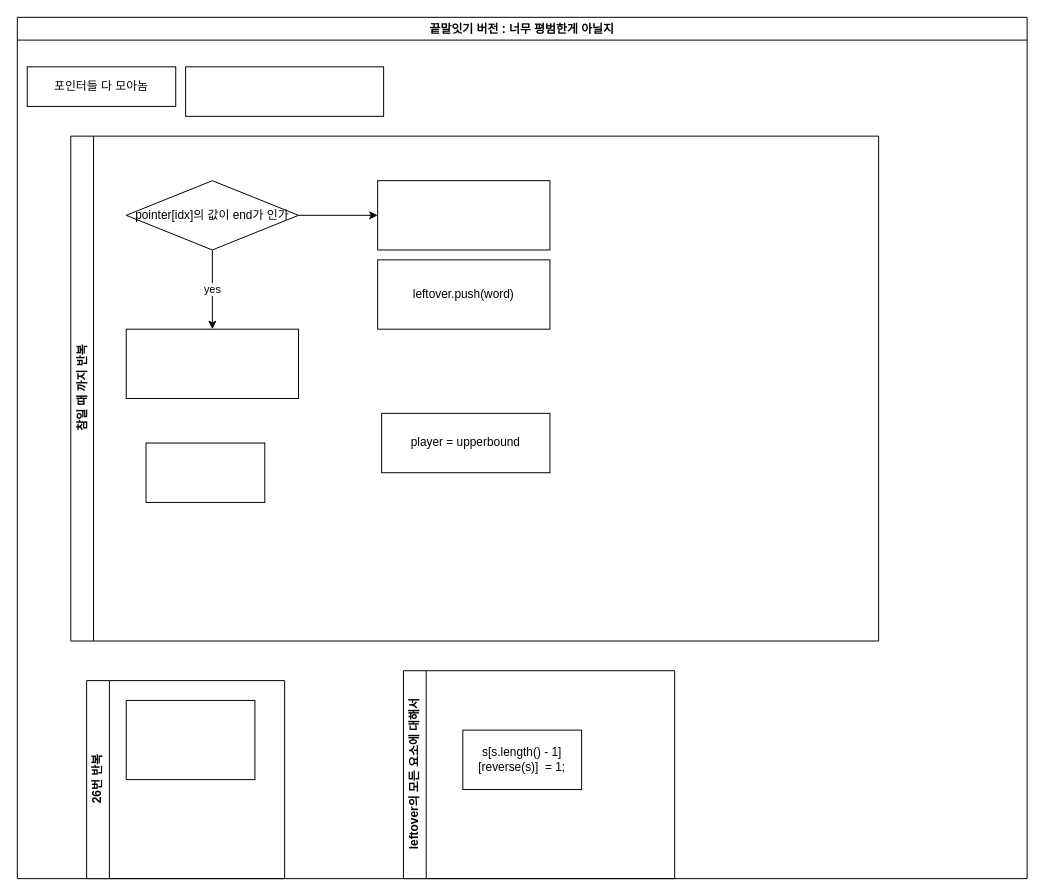
This 1044x896 diagram has some shape labels left out. The shapes that lost their labels are listed below. From the top down, each one's box as (x1, y1, x2, y2) in pixels, then its label:
(185, 66, 384, 116): 시작 인덱스 = mChr - 'a'
(377, 180, 550, 250): idx = pointer[idx] -> first [ word .lengt() - 1]
(125, 328, 298, 398): player.erase(player)
(145, 442, 265, 502): break
(125, 699, 255, 780): box[i].erase(box.begin() , pointer[i])
